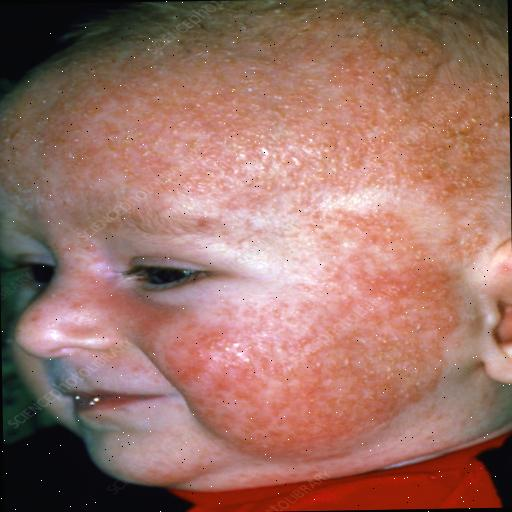Skin_Lesion: (326, 134, 382, 170), (362, 268, 428, 298), (334, 201, 391, 233), (298, 348, 334, 392), (438, 110, 486, 142), (420, 154, 450, 195), (189, 332, 234, 354), (310, 308, 348, 334), (280, 404, 312, 434), (188, 211, 220, 240), (202, 376, 248, 394), (196, 109, 220, 137), (100, 110, 118, 140), (380, 336, 401, 352)
